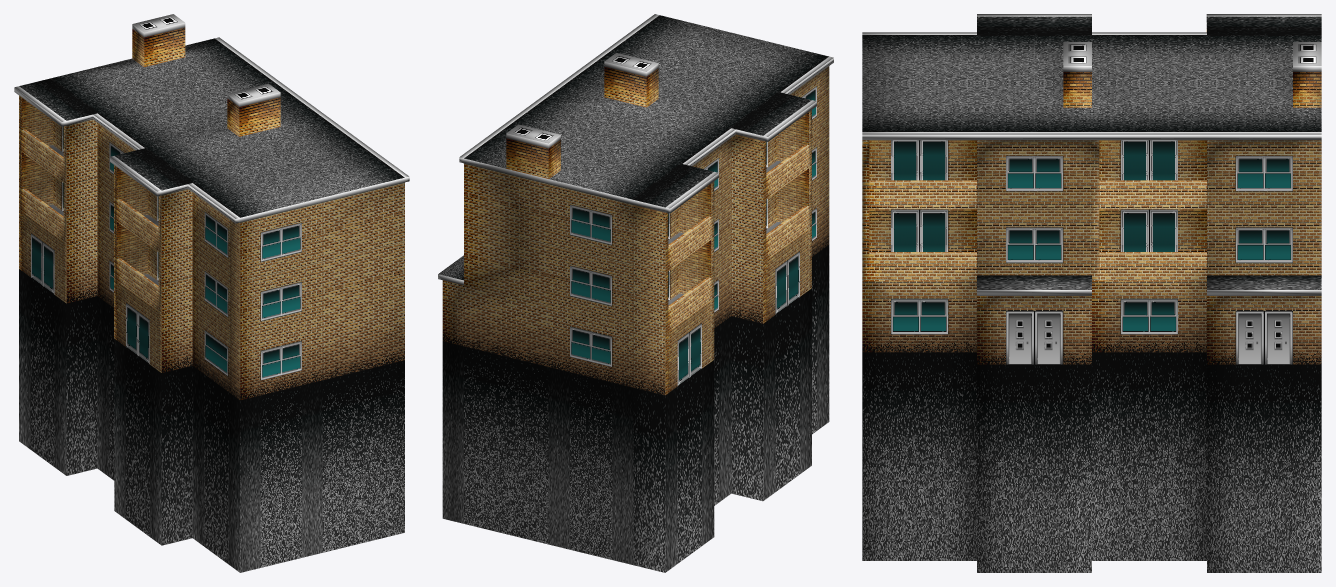
Rendered from maisonet_mod3_2b.fbx.
3 renders of one model, left to right at view 1: azimuth 30°, elevation 25°; view 2: azimuth 150°, elevation 25°; view 3: azimuth 270°, elevation 25°, orthographic. The views are drawn at different scales.
Visible parts, largest first — view 1: maisonet_mod3_2b; view 2: maisonet_mod3_2b; view 3: maisonet_mod3_2b.
Part boxes in pixels (x1=…): maisonet_mod3_2b: x1=14, y1=14, x2=409, y2=572; maisonet_mod3_2b: x1=438, y1=14, x2=833, y2=572; maisonet_mod3_2b: x1=862, y1=14, x2=1321, y2=572.
Size of the model in its own units: 1231 by 2033 by 1800.
